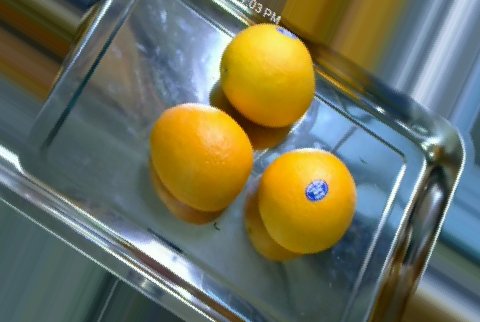Orange: (150, 102, 252, 211), (257, 148, 356, 254), (219, 21, 316, 127)
